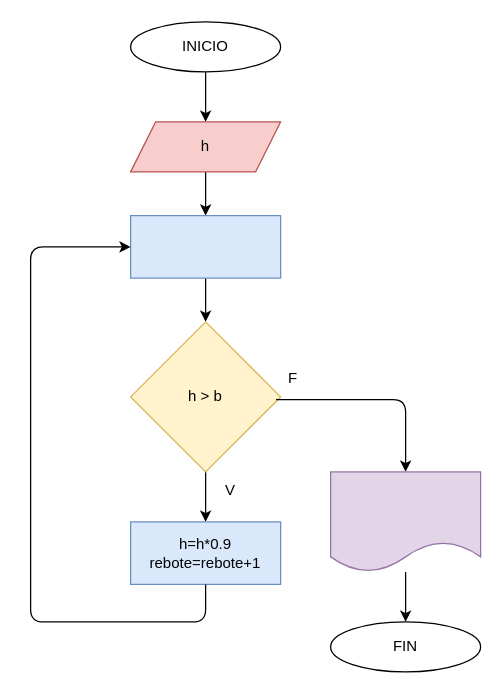
Some shapes in this 503 by 694 pixel diagram are drawn without their labels. Each missing label, with the box of its shape:
b=h/5 rebote=0: (129, 214, 281, 278)
rebote: (329, 471, 481, 572)
